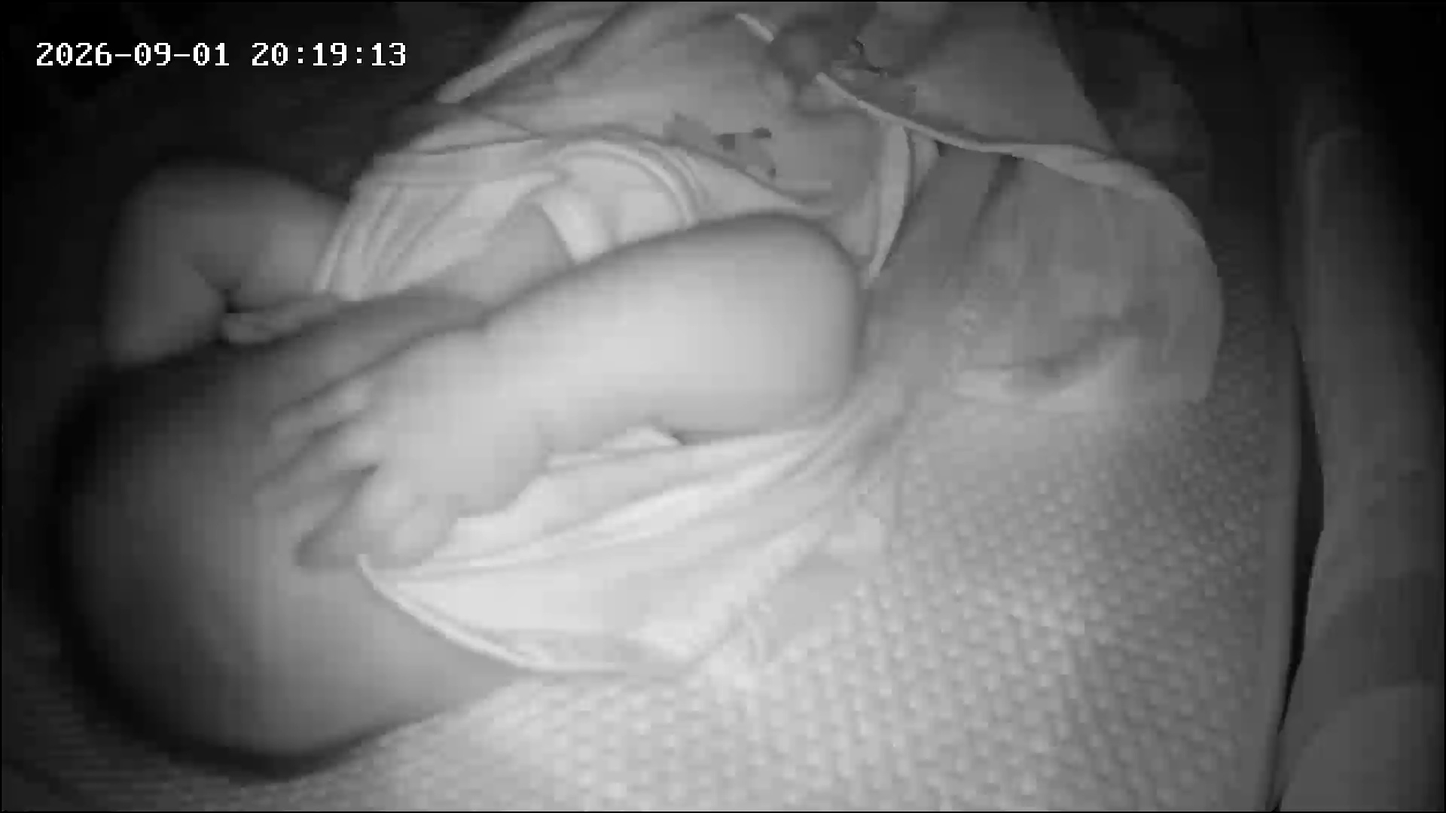baby: (8, 35, 979, 802)
baby_face: (14, 296, 587, 791)
